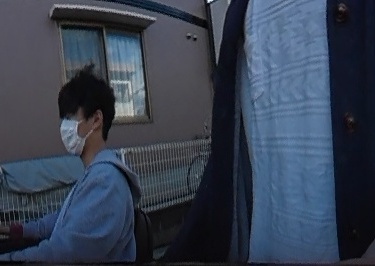person: (35, 68, 136, 266)
